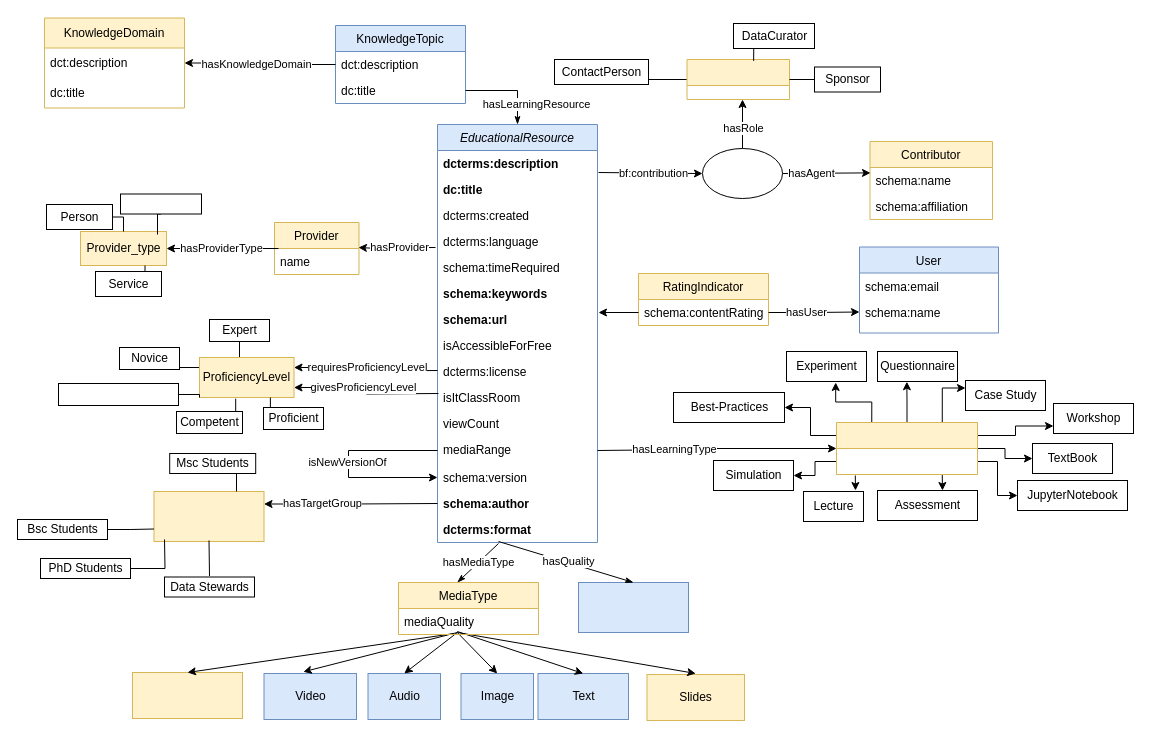
Image size: 1151x738. Some labels were removed from this diagram. The shapes that lost their labels are listed below. From the top down, each one's centre as x and y in pixels, then its label:
At (738,79): "ContributorRole".
At (742,173): "Contribution".
At (161,203): "Organisation".
At (118,394): "Advanced Beginner".
At (907,448): "LearningResourceType".
At (208,516): "TargetGroup".
At (633,607): "ContentQuality".
At (187,695): "Code/Script".
